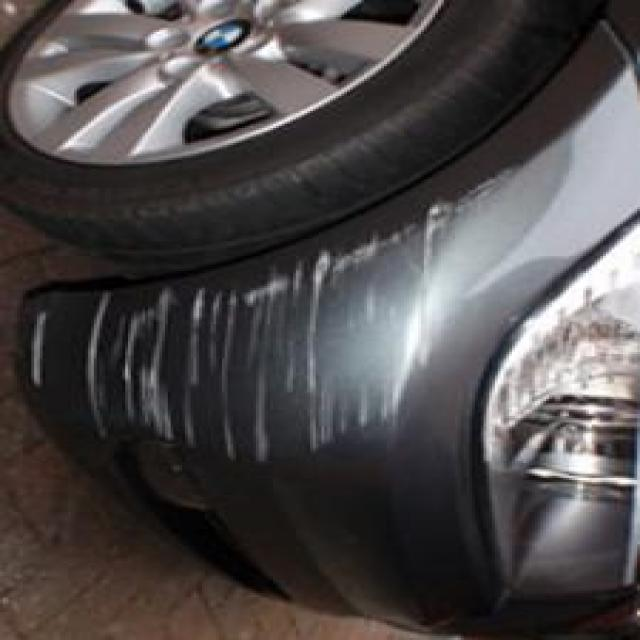scratch: (0, 163, 523, 487)
